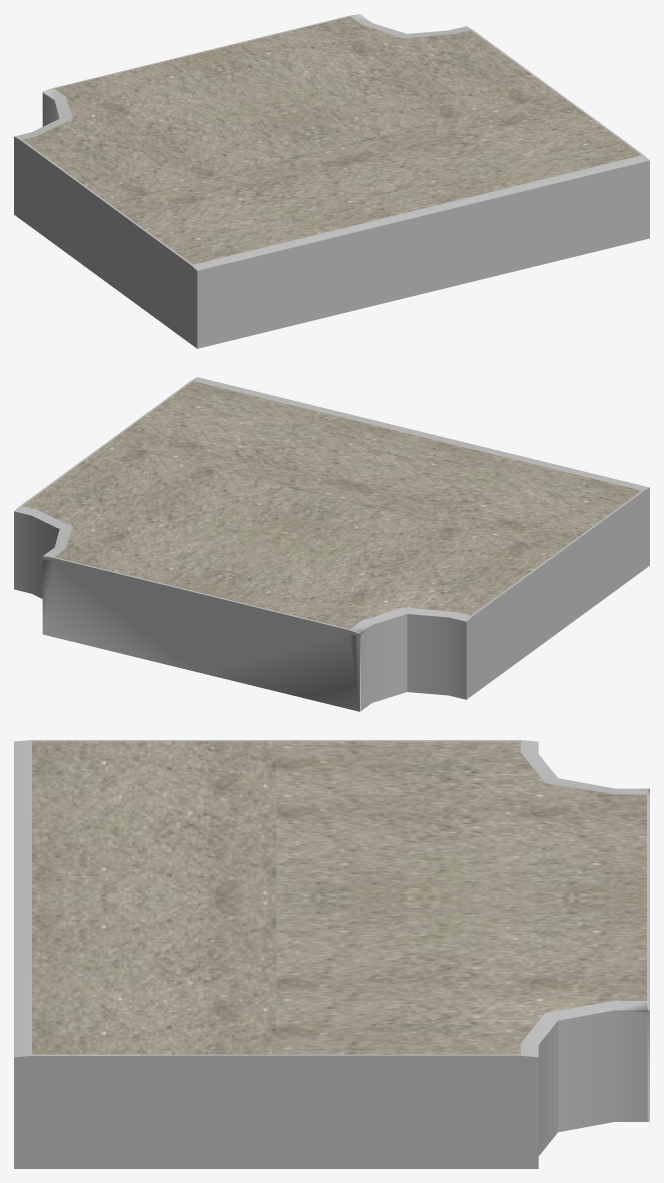
Rendered from road_02_t.fbx.
3 renders of one model, top to bottom at view 1: azimuth 30°, elevation 25°; view 2: azimuth 150°, elevation 25°; view 3: azimuth 270°, elevation 25°, orthographic. The views are drawn at different scales.
Visible parts, largest first — view 1: road_02_t; view 2: road_02_t; view 3: road_02_t.
Boxes of the visible parts, x1=… form: road_02_t: x1=14, y1=14, x2=649, y2=348; road_02_t: x1=14, y1=377, x2=649, y2=711; road_02_t: x1=14, y1=740, x2=649, y2=1168.
Bounding box in the file's own units: 12 × 2.01 × 10.21.
